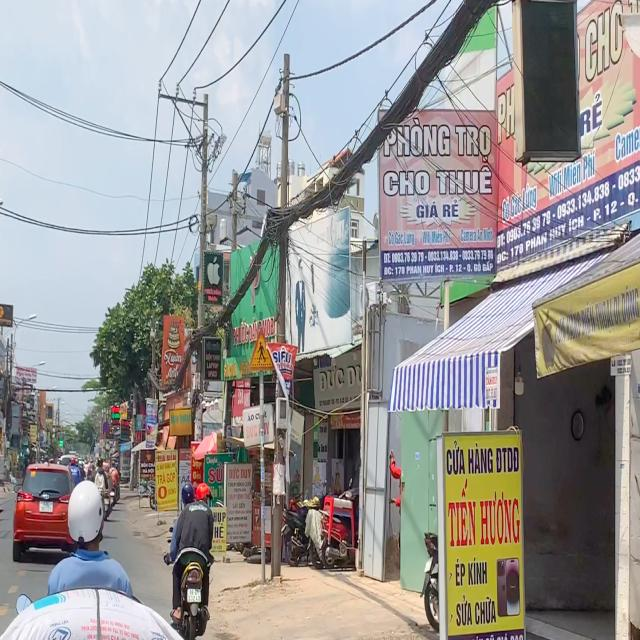Nguoi di bo cat ngang: (248, 328, 274, 372)
